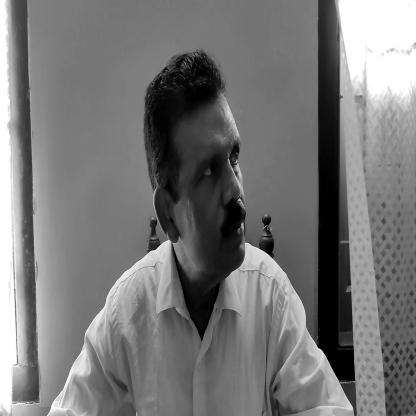Distracted: (138, 59, 262, 274)
